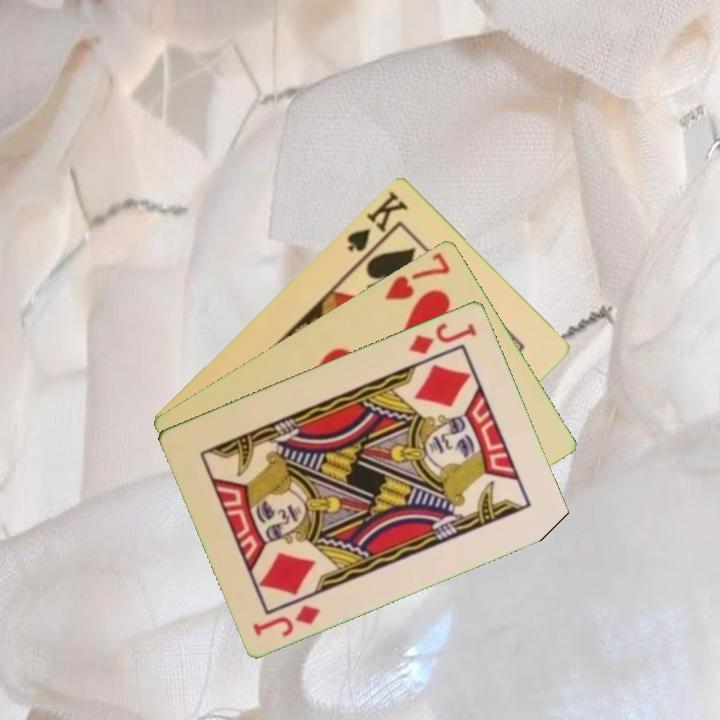7h: (381, 248, 453, 303)
Jd: (249, 600, 323, 640), (405, 318, 480, 357)
Ks: (343, 186, 411, 254)
